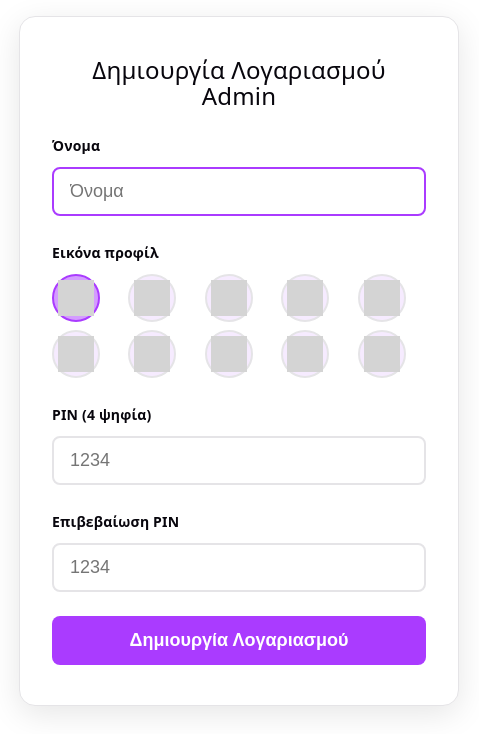
Setup › disables submit button while loading
In the field with placeholder "Όνομα": (239, 192) [52,167,426,216], type "Dad"
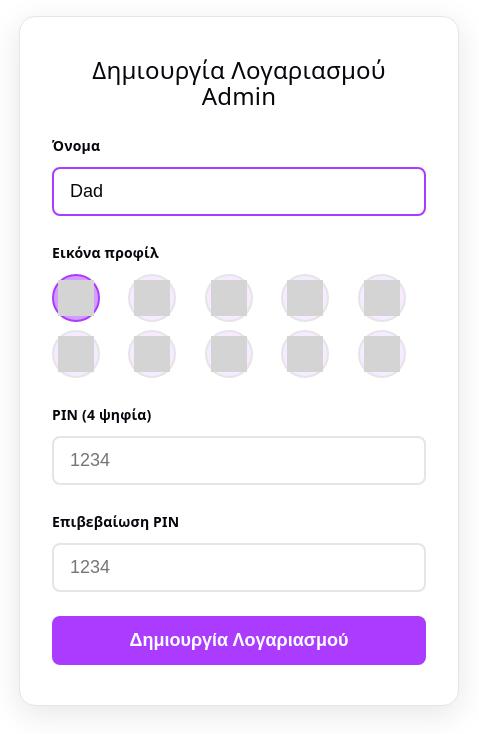
In the password field with placeholder "1234": (239, 461) [52,436,426,485], type "1234"
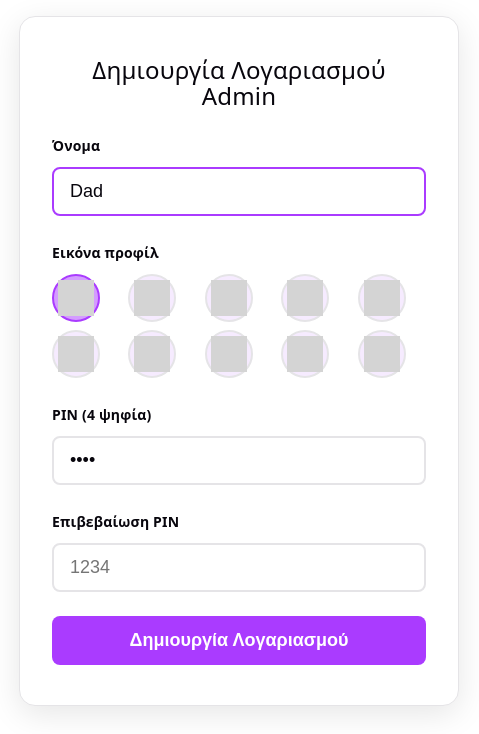
In the password field with placeholder "1234": (239, 568) [52,543,426,592], type "1234"
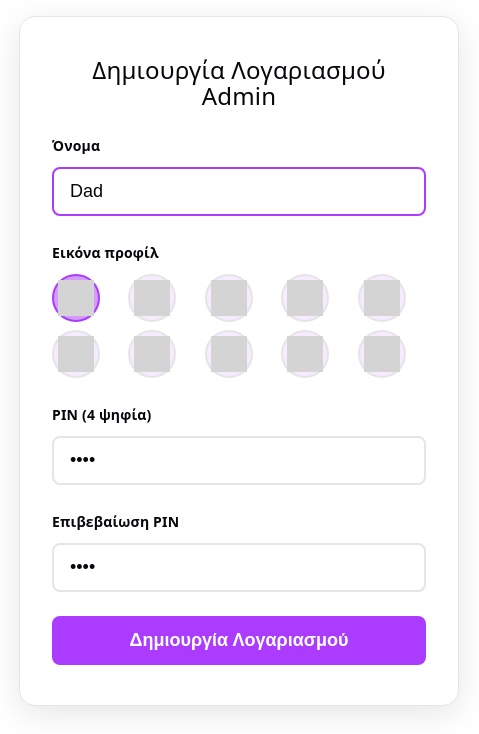
Click the button "Δημιουργία Λογαριασμού": (239, 641) [52,616,426,665]
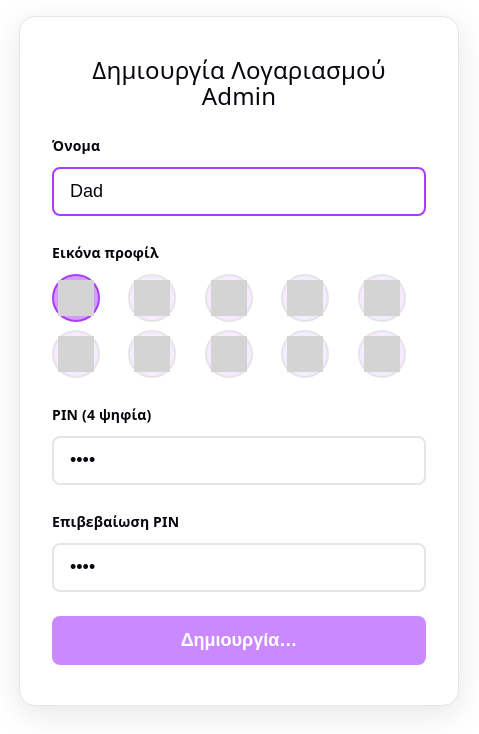
Check: the button "Δημιουργία…" is disabled, box [52,616,426,665]
